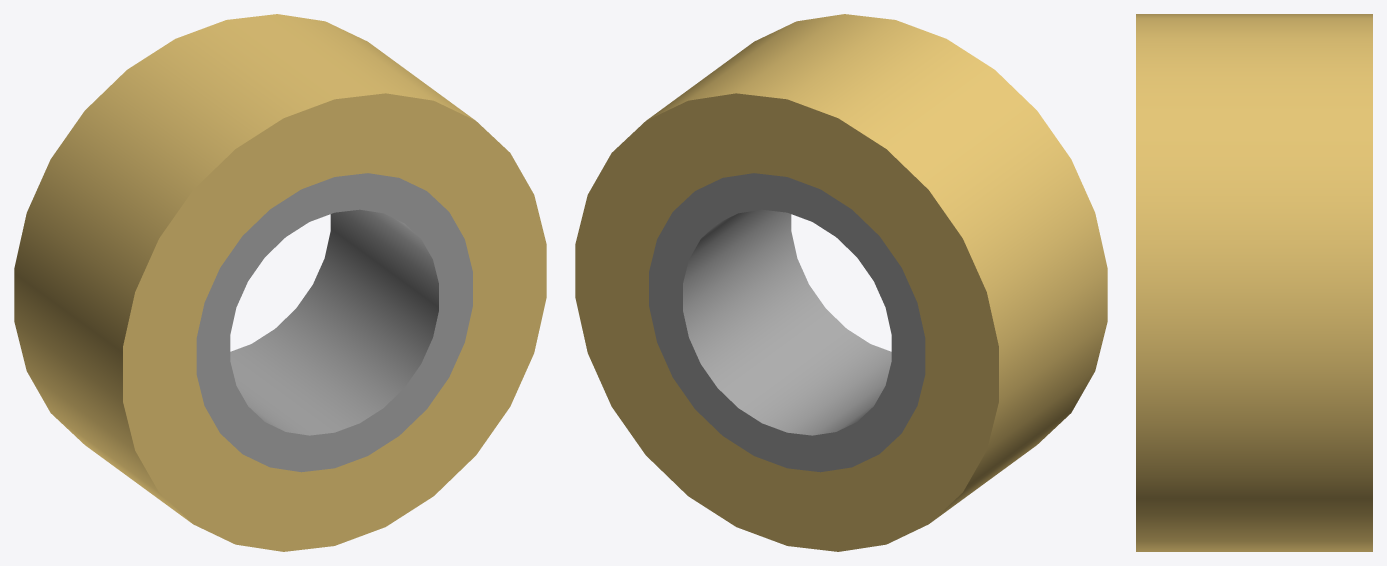
Rendered from bant.fbx.
The picture shows the model from 3 angles, left to right: view 1: azimuth 30°, elevation 25°; view 2: azimuth 150°, elevation 25°; view 3: azimuth 270°, elevation 25°; orthographic projection. The views are drawn at different scales.
Parts seen in each view (by area): view 1: bant; view 2: bant; view 3: bant.
Boxes of the visible parts, bbox=[...] form: bant: bbox=[14, 14, 546, 551]; bant: bbox=[575, 14, 1107, 551]; bant: bbox=[1136, 14, 1372, 551].
Size of the model in its own units: 175 by 176 by 77.56.
